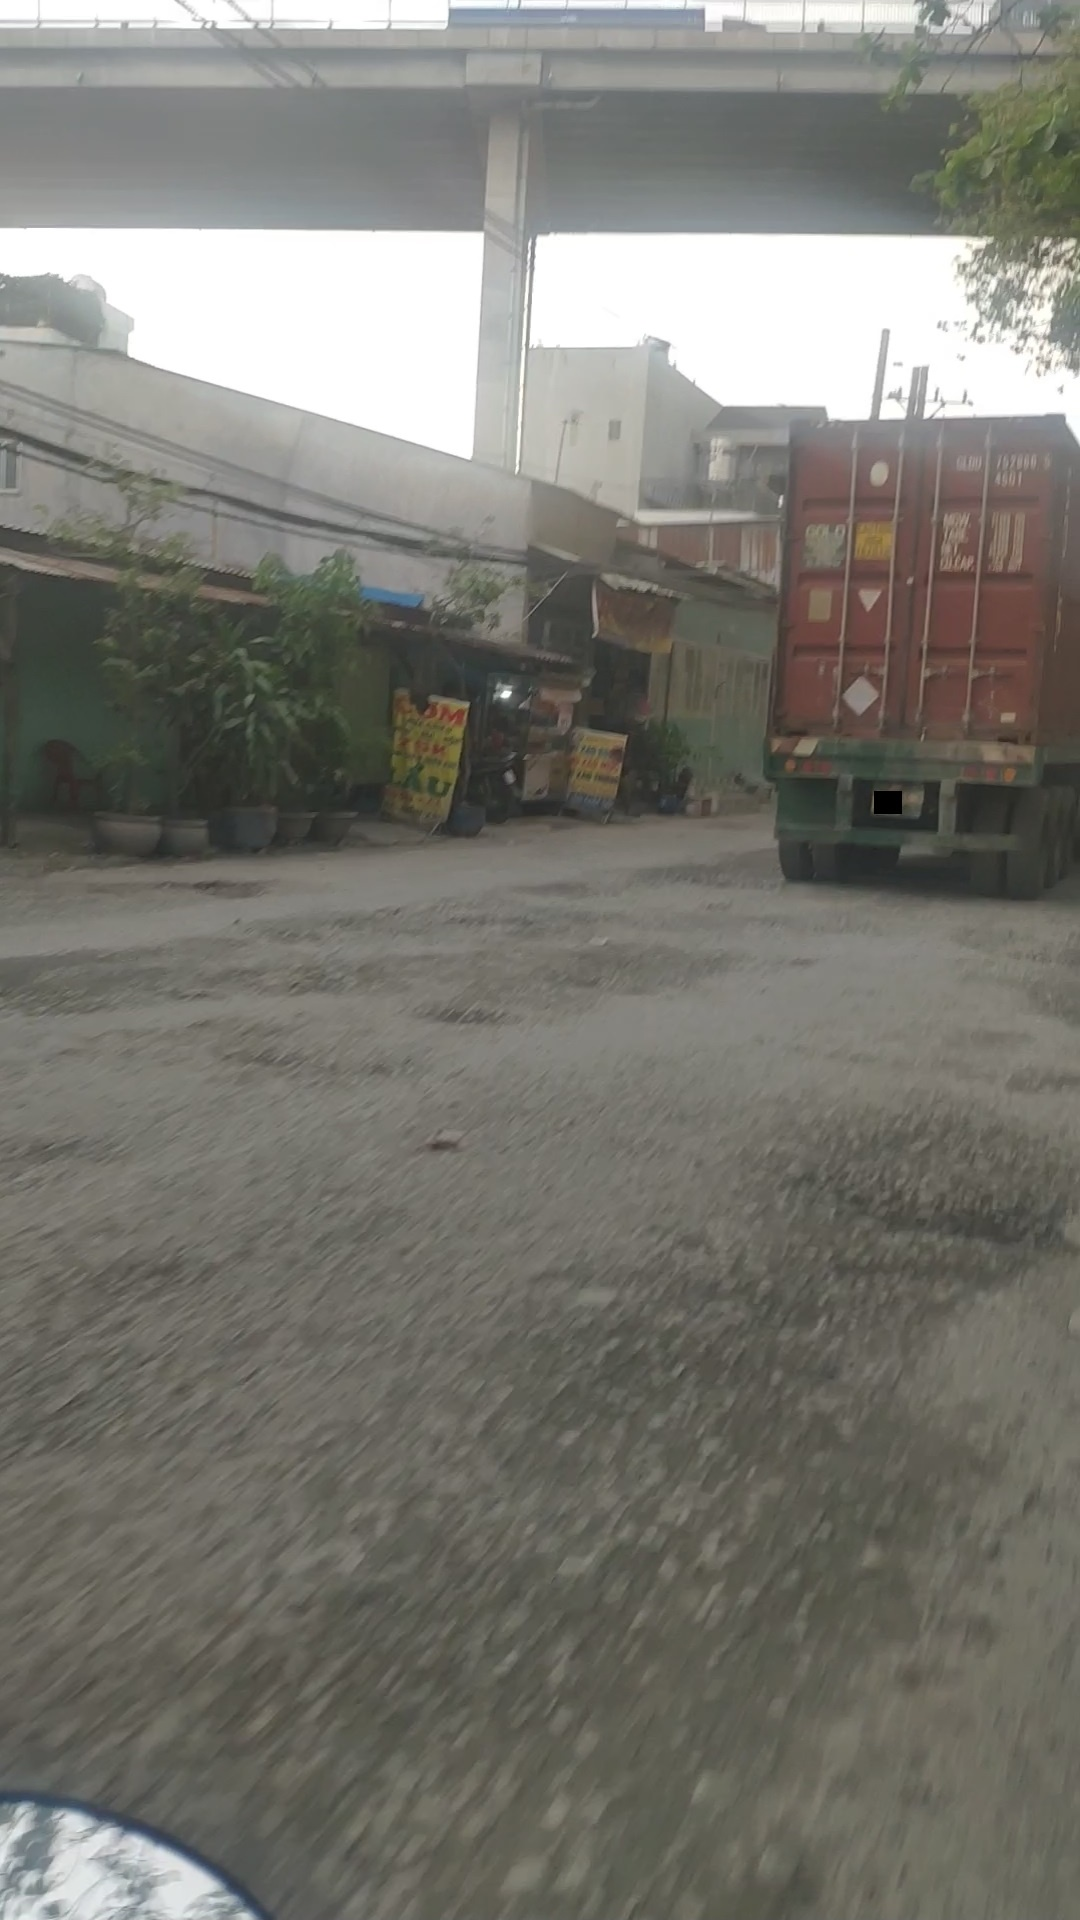hole: (802, 1112, 1080, 1275), (193, 1030, 423, 1083), (189, 945, 398, 1004), (553, 938, 736, 1004), (955, 961, 1080, 1036), (237, 906, 431, 943), (945, 916, 1080, 967), (626, 857, 782, 895), (742, 903, 894, 939), (401, 996, 535, 1035), (142, 874, 287, 905), (438, 905, 545, 934), (508, 873, 612, 899)
